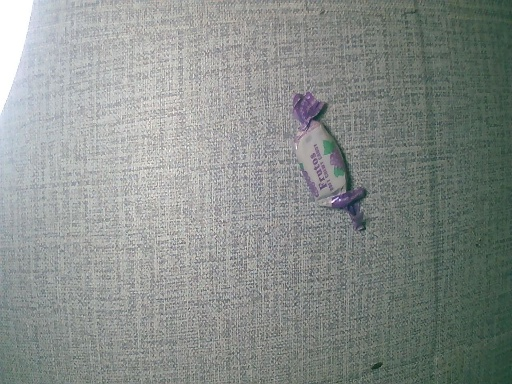plastic: (284, 91, 369, 237)
